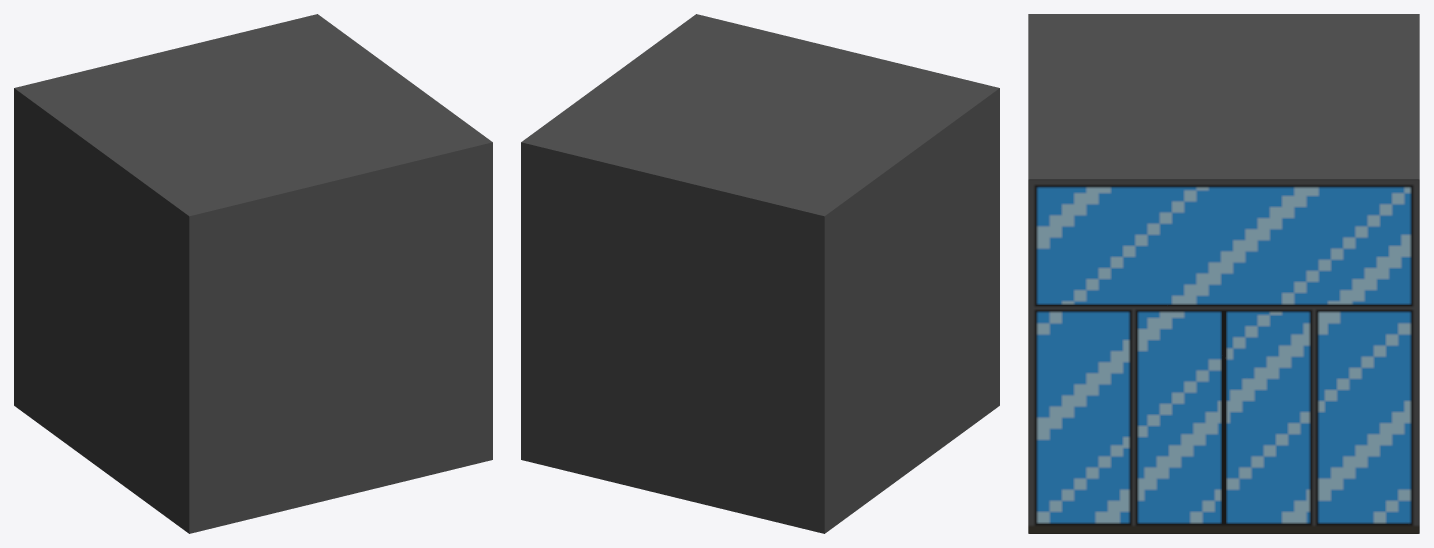
File: GlassBuildingH128x128_Ground02.fbx
The picture shows the model from 3 angles, left to right: view 1: azimuth 30°, elevation 25°; view 2: azimuth 150°, elevation 25°; view 3: azimuth 270°, elevation 25°; orthographic projection. The views are drawn at different scales.
Visible parts, largest first — view 1: Ground02; view 2: Ground02; view 3: Ground02.
Boxes of the visible parts, x1,y1,x2,y2 form: Ground02: (14,14,492,533); Ground02: (521,14,999,533); Ground02: (1028,14,1419,533).
Bounding box in the file's own units: 100 × 100 × 100.
Materials: 1 (1 with a texture image).
